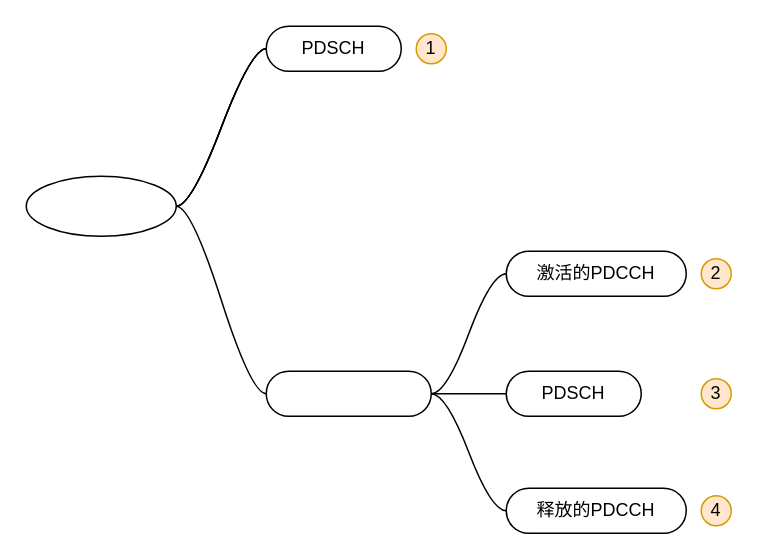
The diagram is 758 pixels wide and 560 high, and some of its shapes have lost their labels. Here are the shapes that lost their labels. From the top down, the centre of each, then its label:
(x=100, y=205): HARQ-ACK
(x=348, y=393): SPS PDSCH
